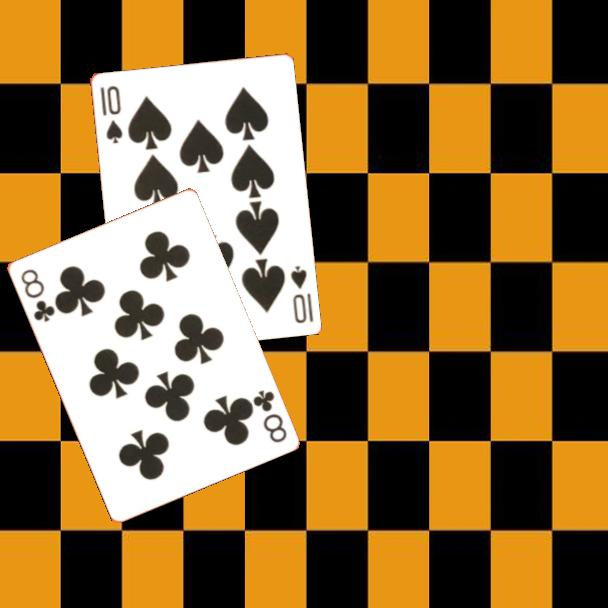c08: (17, 265, 58, 325), (249, 386, 289, 446)
s10: (96, 82, 125, 146), (287, 262, 316, 326)
